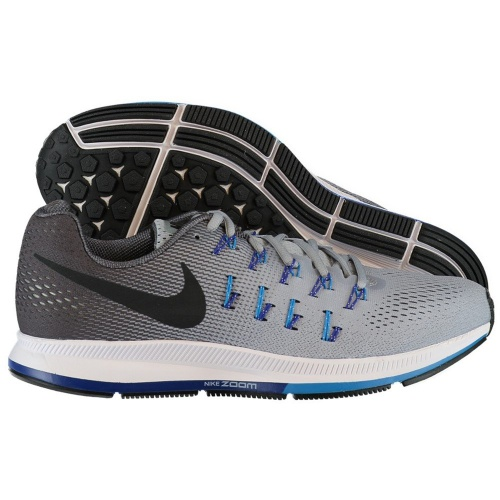nike: (31, 248, 209, 331)
